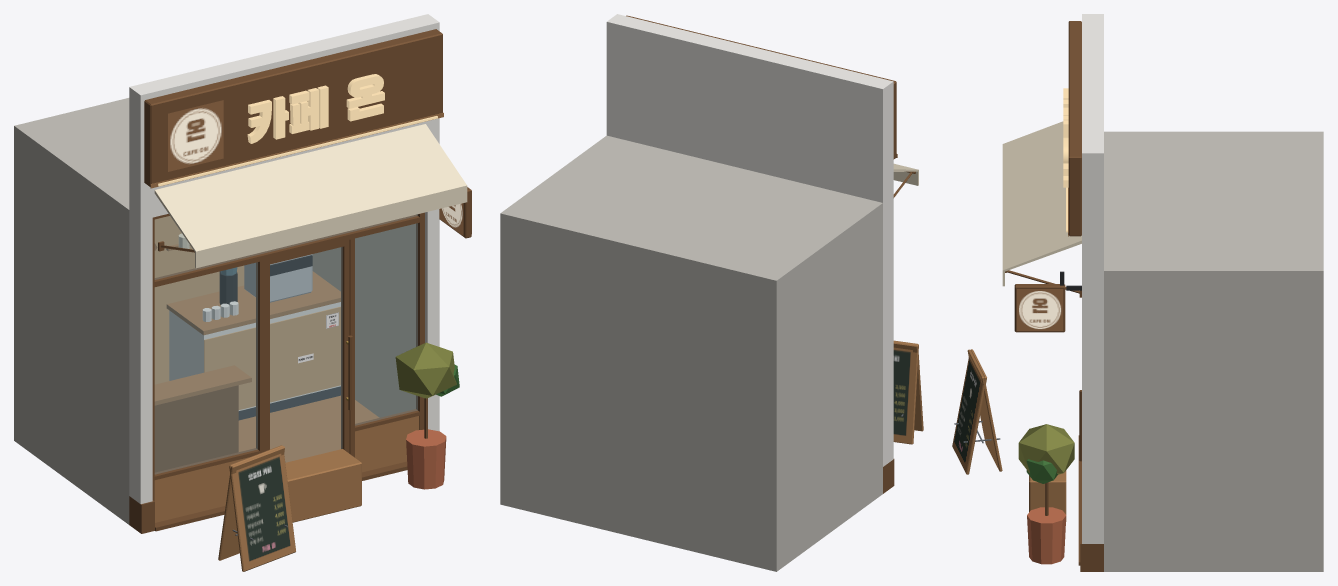
File: SC_Shop_Cafe.gltf
The picture shows the model from 3 angles, left to right: view 1: azimuth 30°, elevation 25°; view 2: azimuth 150°, elevation 25°; view 3: azimuth 270°, elevation 25°; orthographic projection. The views are drawn at different scales.
Visible parts, largest first — view 1: SC_Shop_Cafe; view 2: SC_Shop_Cafe; view 3: SC_Shop_Cafe.
Boxes of the visible parts, bbox=[...] form: SC_Shop_Cafe: bbox=[14, 14, 471, 571]; SC_Shop_Cafe: bbox=[500, 14, 923, 571]; SC_Shop_Cafe: bbox=[952, 14, 1323, 571].
Size of the model in its own units: 3 by 4.2 by 3.38.
Materials: 5 (5 with a texture image).
